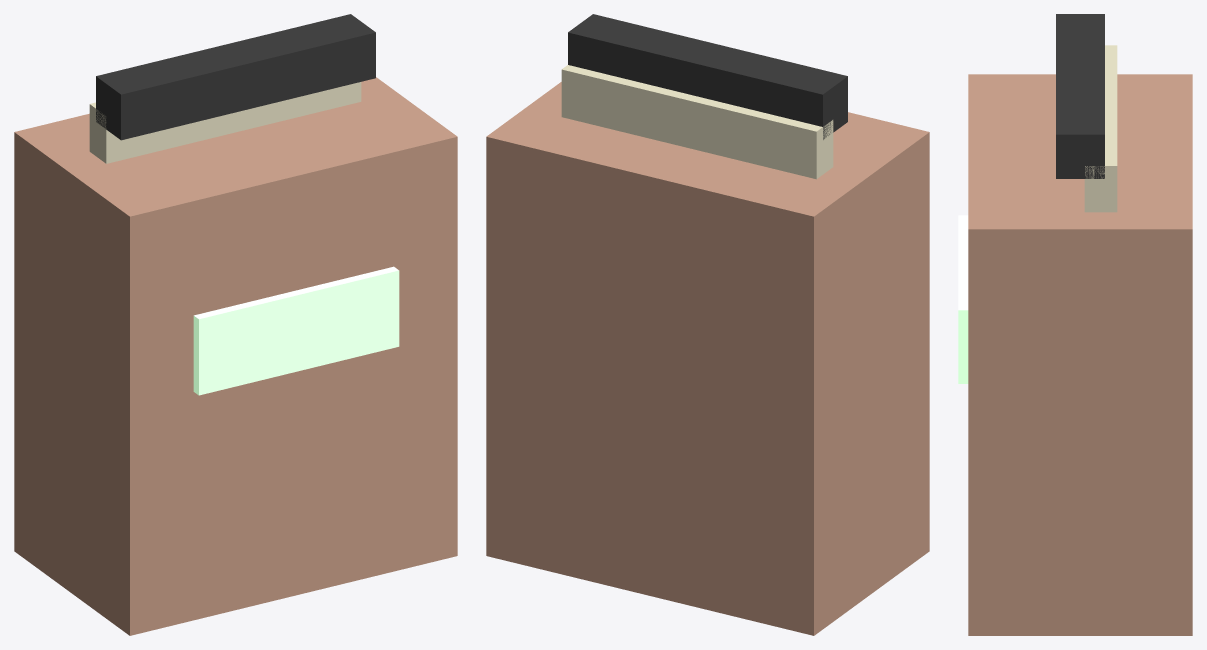
File: daily_bag.glb
3 renders of one model, left to right at view 1: azimuth 30°, elevation 25°; view 2: azimuth 150°, elevation 25°; view 3: azimuth 270°, elevation 25°, orthographic. The views are drawn at different scales.
Visible parts, largest first — view 1: SB_BagBody, SB_BagHandle, SB_DailyStrip, SB_BagPaper; view 2: SB_BagBody, SB_BagHandle, SB_BagPaper; view 3: SB_BagBody, SB_BagHandle, SB_BagPaper, SB_DailyStrip.
Boxes of the visible parts, x1,y1,x2,y2 form: SB_BagBody: (14, 77, 457, 635); SB_BagHandle: (96, 14, 375, 140); SB_DailyStrip: (193, 266, 399, 395); SB_BagPaper: (89, 82, 361, 163); SB_BagBody: (486, 82, 929, 635); SB_BagHandle: (568, 14, 847, 139); SB_BagPaper: (561, 65, 833, 179); SB_BagBody: (968, 74, 1192, 635); SB_BagHandle: (1056, 14, 1104, 178); SB_BagPaper: (1084, 45, 1117, 212); SB_DailyStrip: (958, 215, 968, 383).
Bounding box in the file's own units: 0.9 × 1.31 × 0.575.
